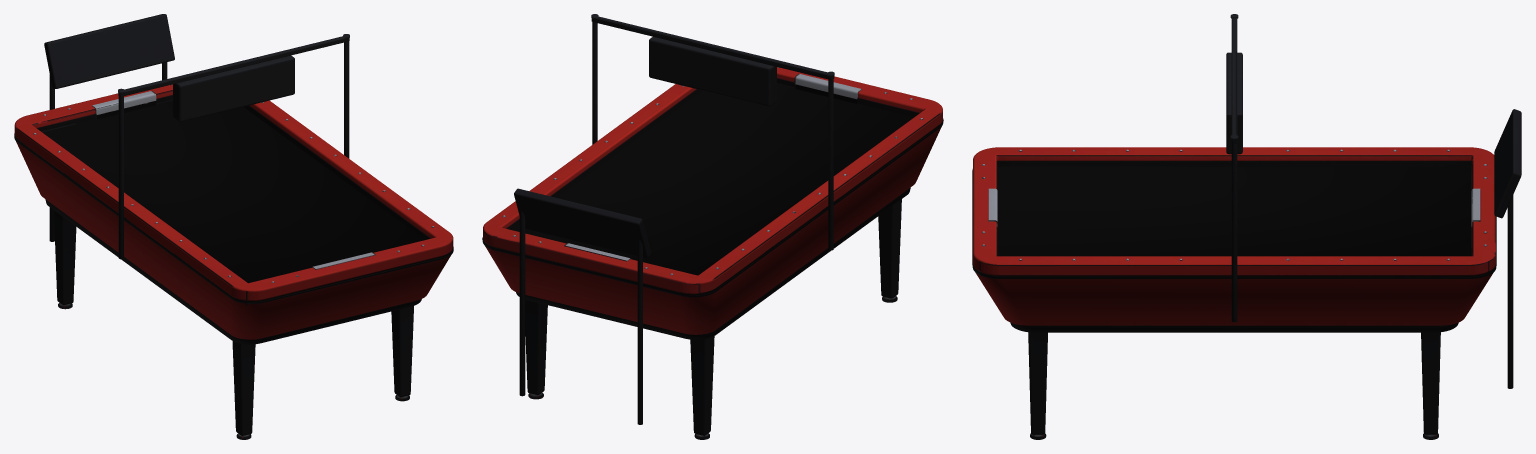
File: table.glb
3 views of the same model, side by side, from view 1: azimuth 30°, elevation 25°; view 2: azimuth 150°, elevation 25°; view 3: azimuth 270°, elevation 25° (orthographic). The views are drawn at different scales.
Parts seen in each view (by area): view 1: table|graphite, table|paint, table|cabinet, gate|graphite, endboard|graphite, table|rubber, table|chrome; view 2: table|graphite, table|cabinet, table|paint, gate|graphite, endboard|graphite, table|rubber, table|chrome; view 3: table|graphite, table|cabinet, table|paint, endboard|graphite, gate|graphite, table|rubber, table|chrome.
Boxes of the visible parts, <box> form: table|graphite: <box>14,100,453,435</box>; table|paint: <box>14,84,453,300</box>; table|cabinet: <box>16,141,450,339</box>; gate|graphite: <box>118,34,349,259</box>; endboard|graphite: <box>44,14,174,241</box>; table|rubber: <box>37,95,430,439</box>; table|chrome: <box>33,84,434,437</box>; table|graphite: <box>482,84,943,435</box>; table|cabinet: <box>485,126,941,334</box>; table|paint: <box>483,67,942,294</box>; gate|graphite: <box>591,14,834,250</box>; endboard|graphite: <box>514,188,650,424</box>; table|rubber: <box>506,78,919,439</box>; table|chrome: <box>502,67,922,437</box>; table|graphite: <box>972,166,1496,434</box>; table|cabinet: <box>975,272,1493,325</box>; table|paint: <box>973,147,1495,275</box>; endboard|graphite: <box>1494,109,1521,388</box>; gate|graphite: <box>1226,14,1242,322</box>; table|rubber: <box>996,161,1472,439</box>; table|chrome: <box>982,149,1486,437</box>.
Bounding box in the file's own units: 1.23 × 1.48 × 2.31.
8 materials, 8 textured.
